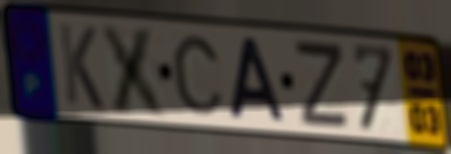7: (350, 40, 396, 135)
A: (227, 35, 288, 125)
C: (169, 33, 227, 118)
K: (56, 19, 107, 113)
X: (97, 21, 173, 121)
Z: (293, 40, 351, 132)
